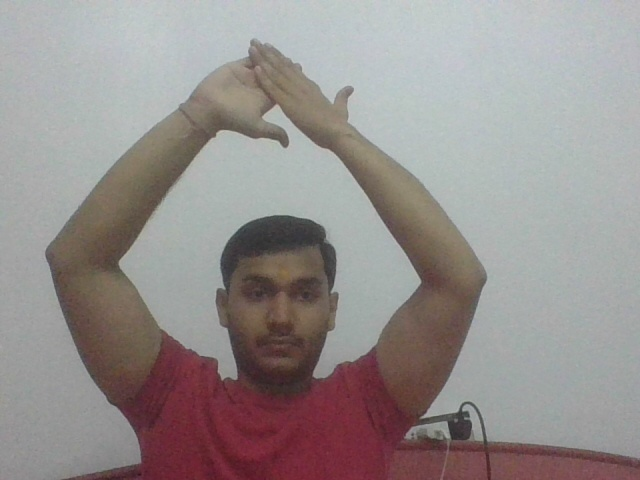H: (194, 36, 360, 156)
